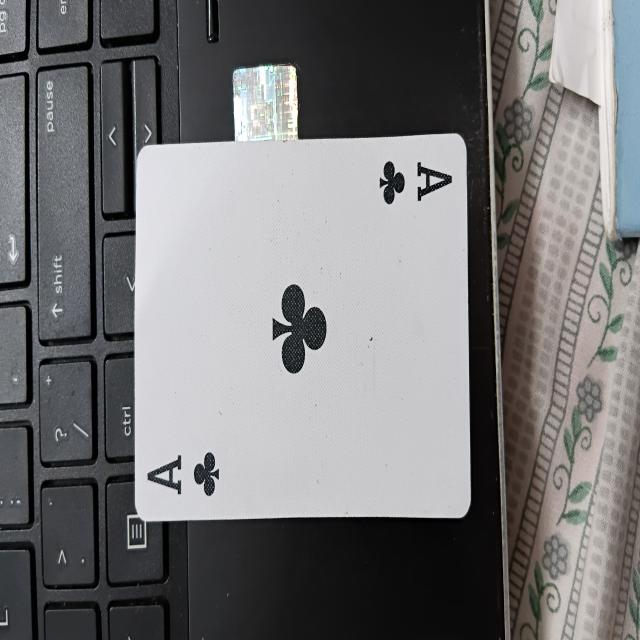AC: (133, 130, 473, 520)
